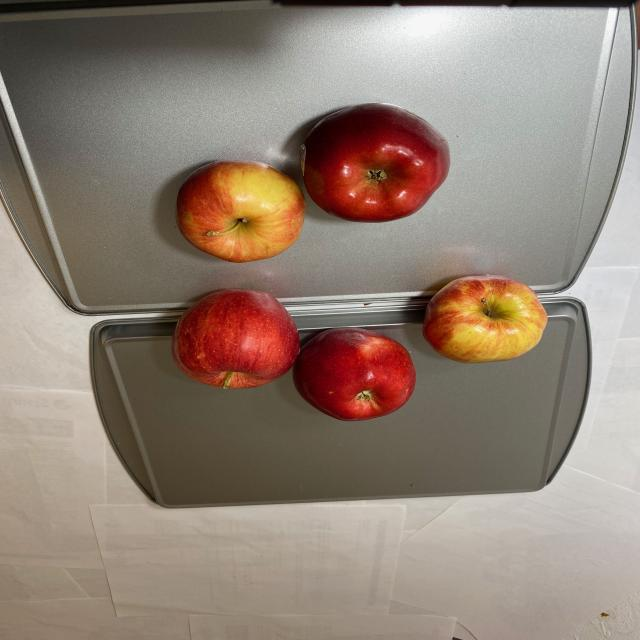apple: (167, 274, 548, 424), (170, 104, 457, 260)
